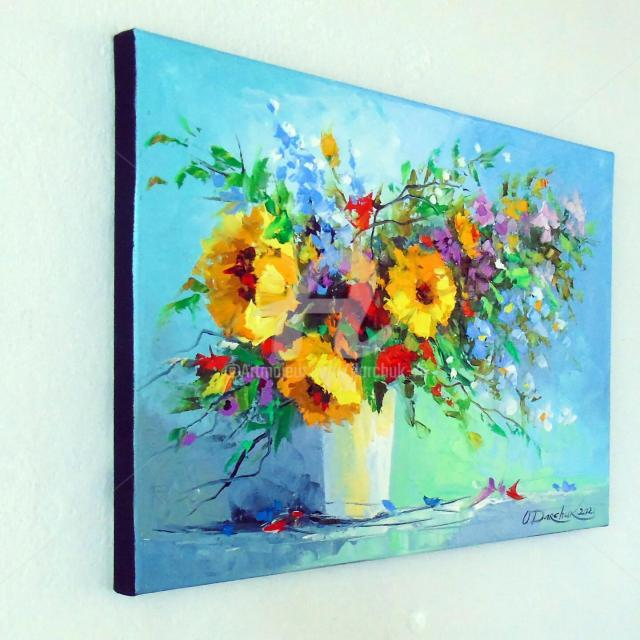painting: (115, 30, 612, 593)
